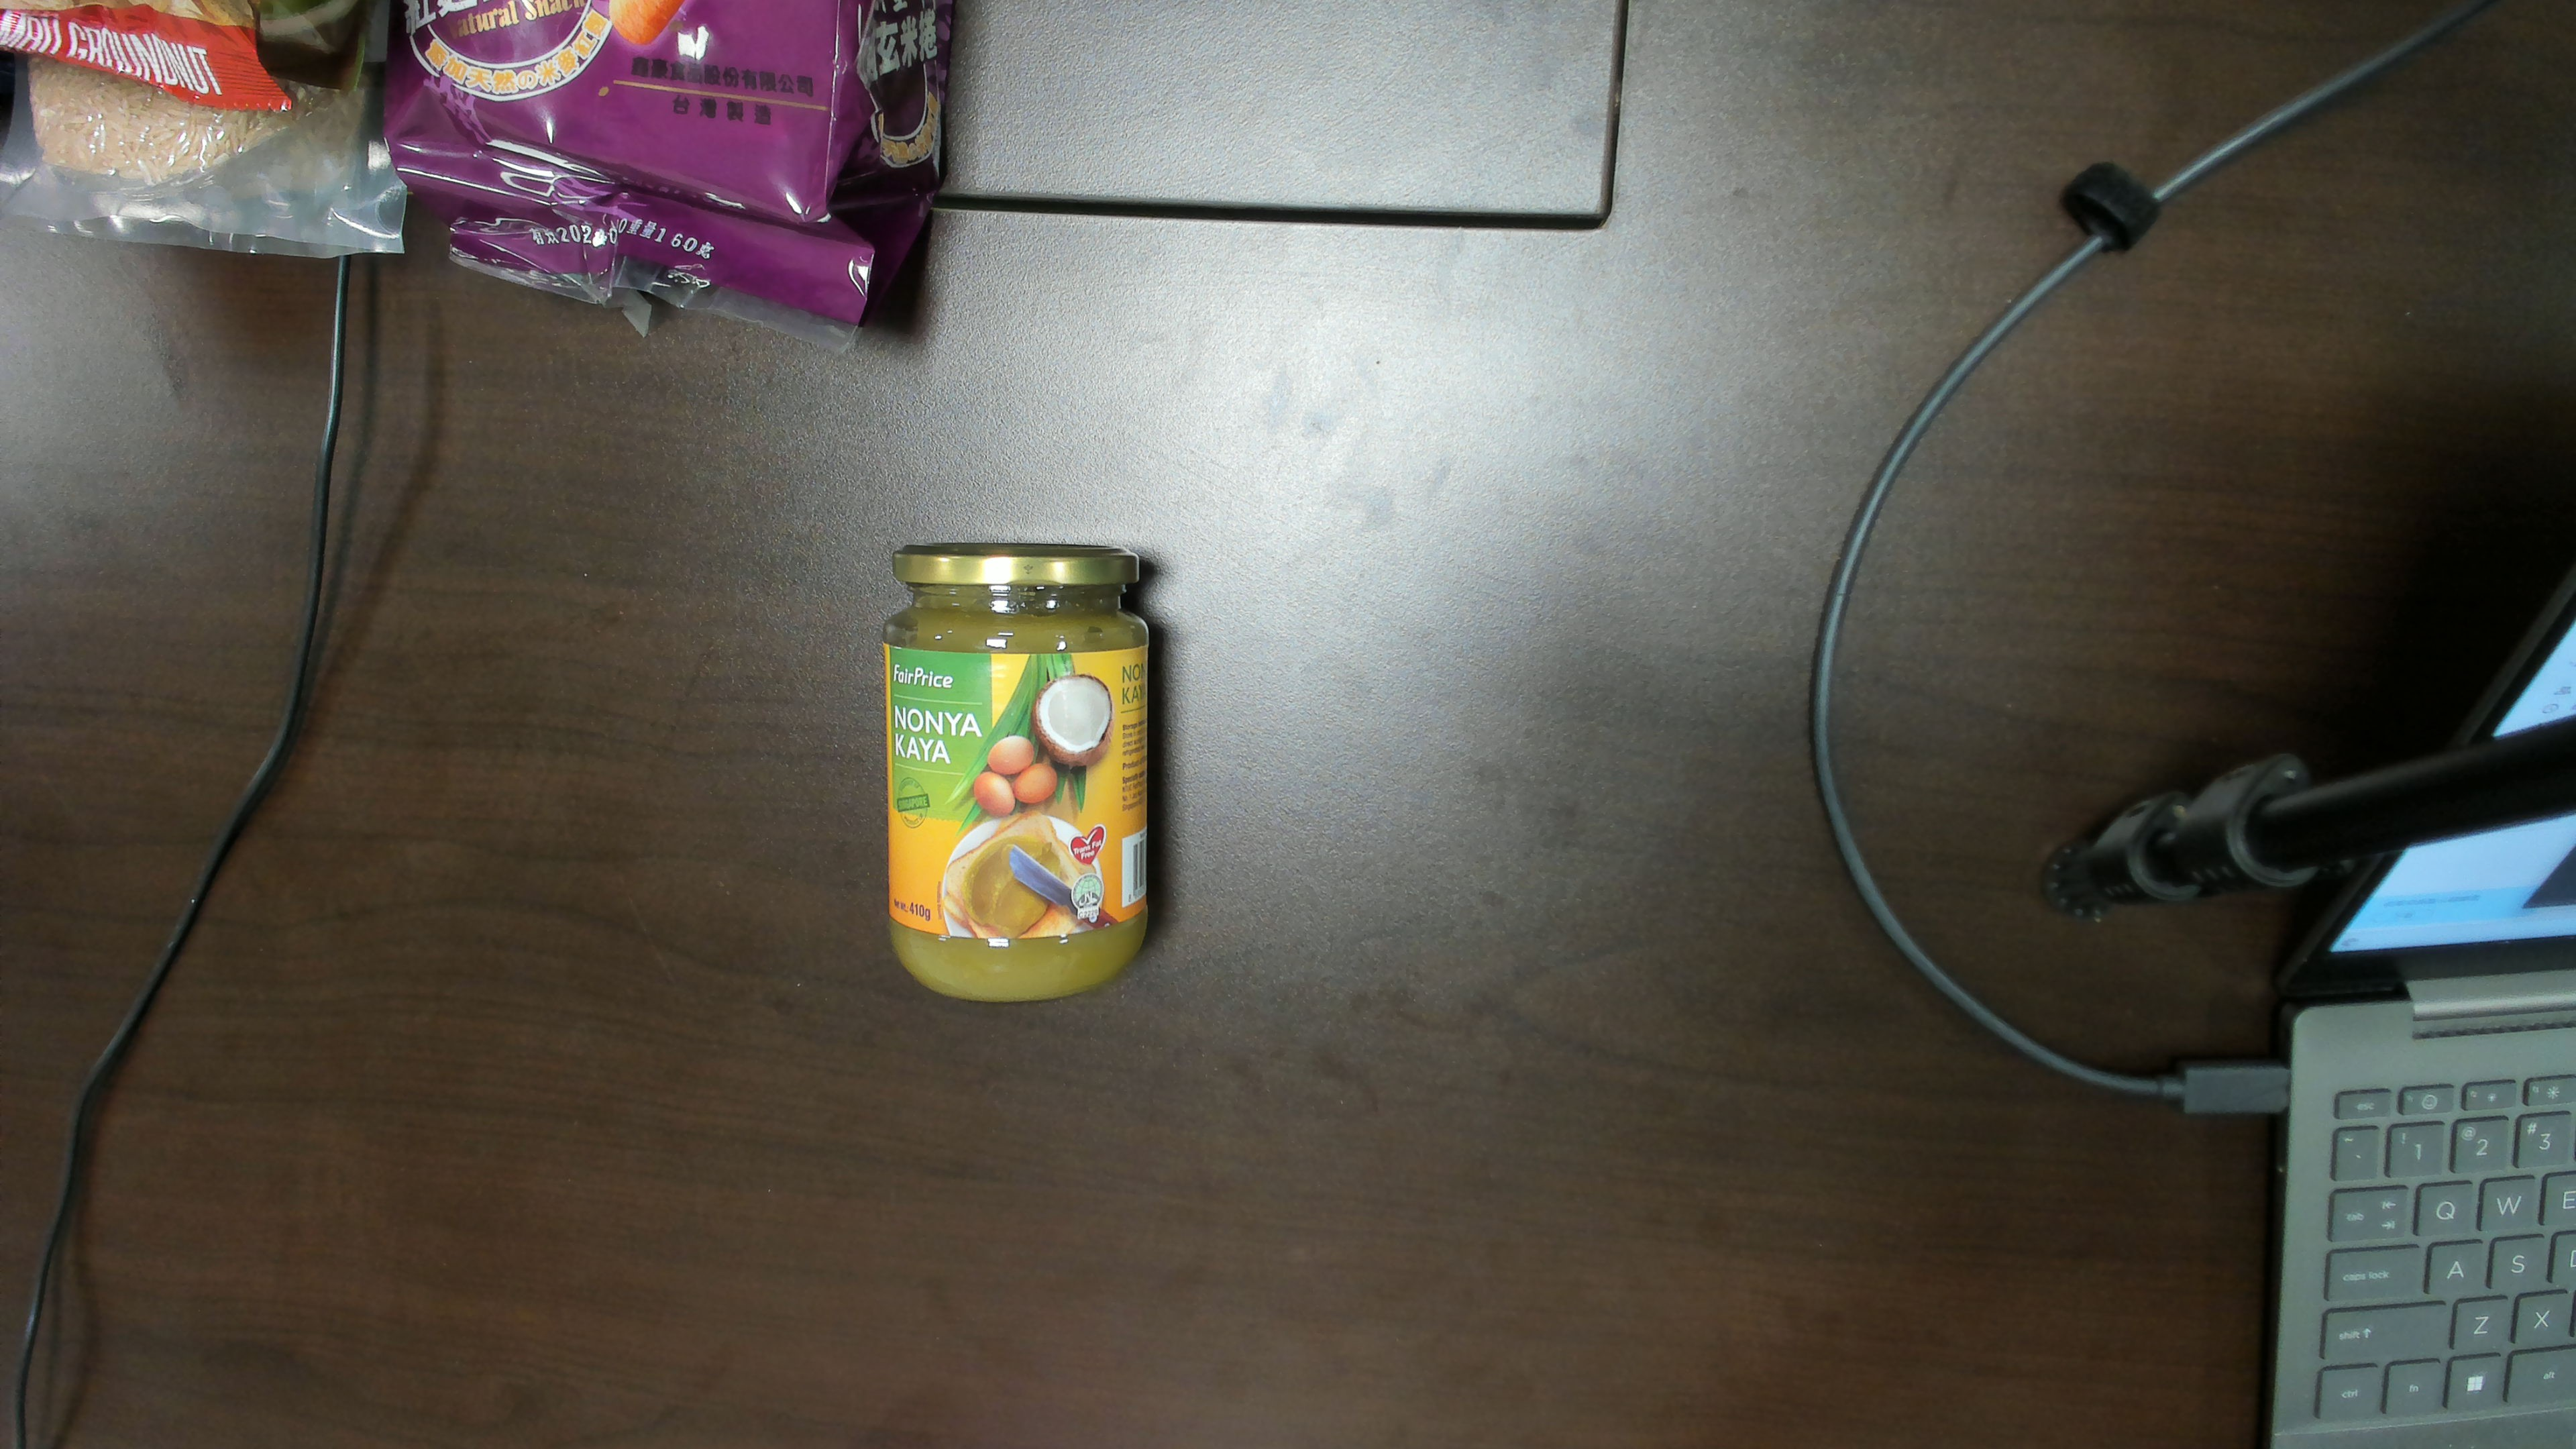Kaya_400-499g_Halal_NonHealthy: (893, 626, 1139, 932)
